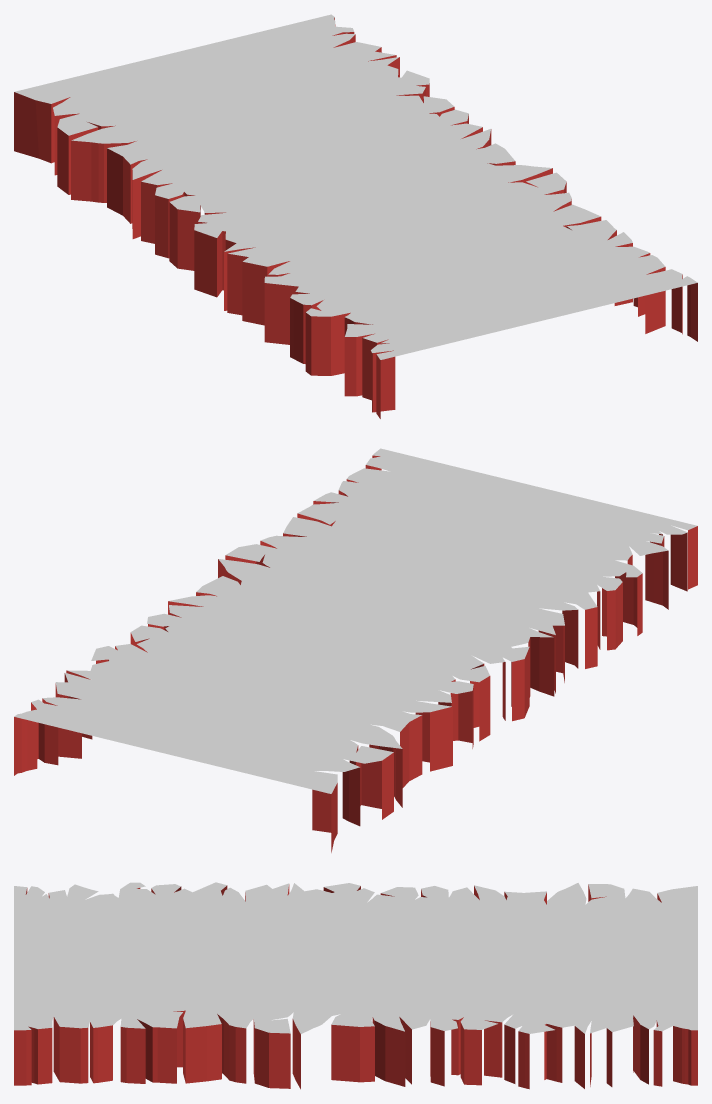
Rendered from newice 2.fbx.
3 views of the same model, one above another, from view 1: azimuth 30°, elevation 25°; view 2: azimuth 150°, elevation 25°; view 3: azimuth 270°, elevation 25° (orthographic). The views are drawn at different scales.
Parts seen in each view (by area): view 1: Plane.001; view 2: Plane.001; view 3: Plane.001.
Part boxes in pixels (x1=…): Plane.001: x1=14, y1=14, x2=697, y2=418; Plane.001: x1=14, y1=448, x2=697, y2=852; Plane.001: x1=14, y1=882, x2=697, y2=1089.
Bounding box in the file's own units: 2946 × 500 × 5600.
